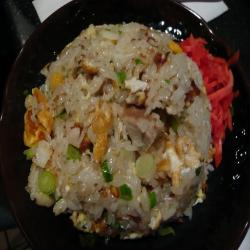rice: (47, 55, 182, 196)
